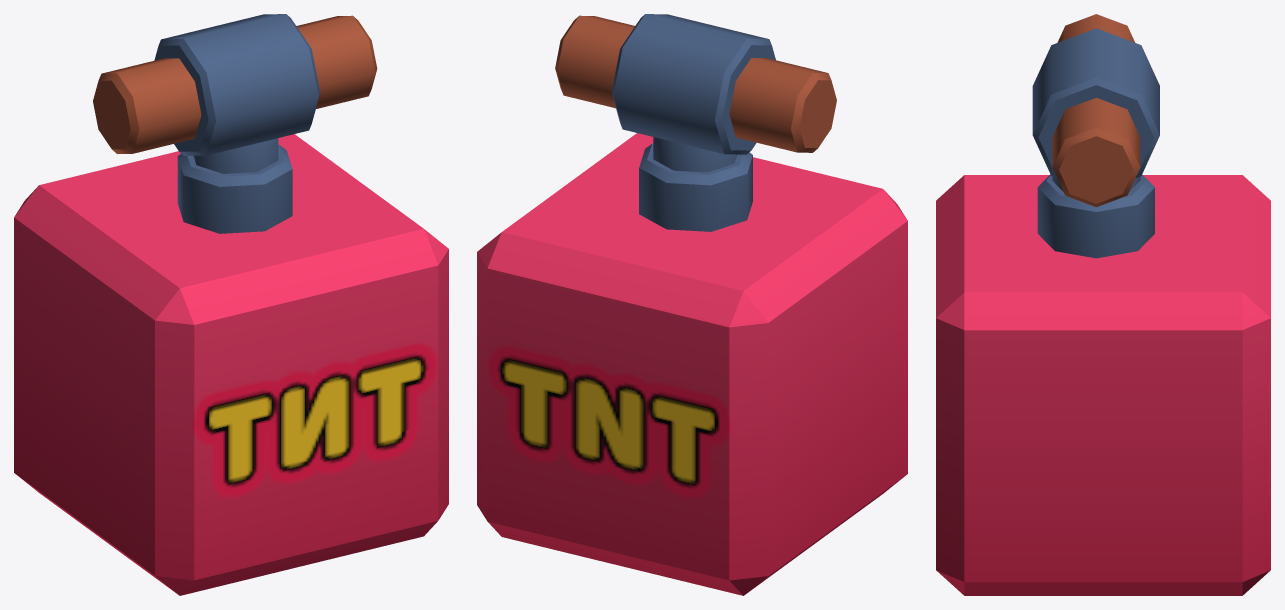
Rendered from TNT.fbx.
3 renders of one model, left to right at view 1: azimuth 30°, elevation 25°; view 2: azimuth 150°, elevation 25°; view 3: azimuth 270°, elevation 25°, orthographic.
Parts seen in each view (by area): view 1: TNT; view 2: TNT; view 3: TNT.
Part boxes in pixels (x1,y1,x2,y2): TNT: (14, 14, 448, 595); TNT: (477, 14, 907, 595); TNT: (936, 14, 1270, 595).
Bounding box in the file's own units: 32.13 × 51.25 × 32.13.
1 material, 1 textured.
